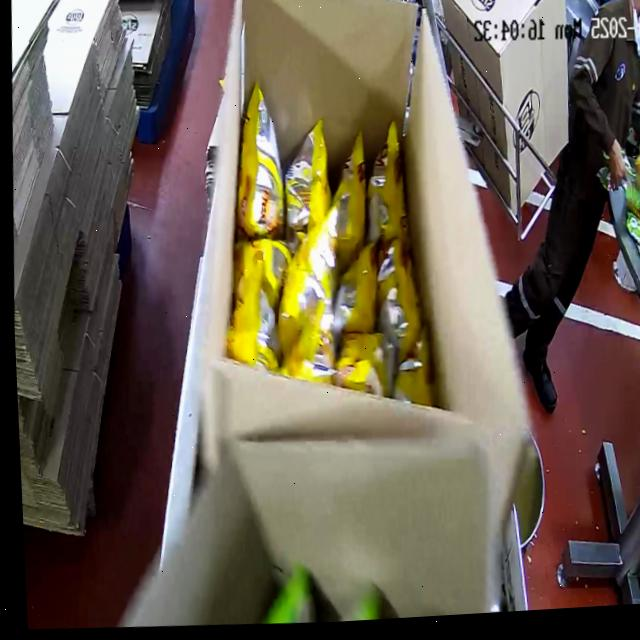SALTED: (229, 106, 435, 377)
